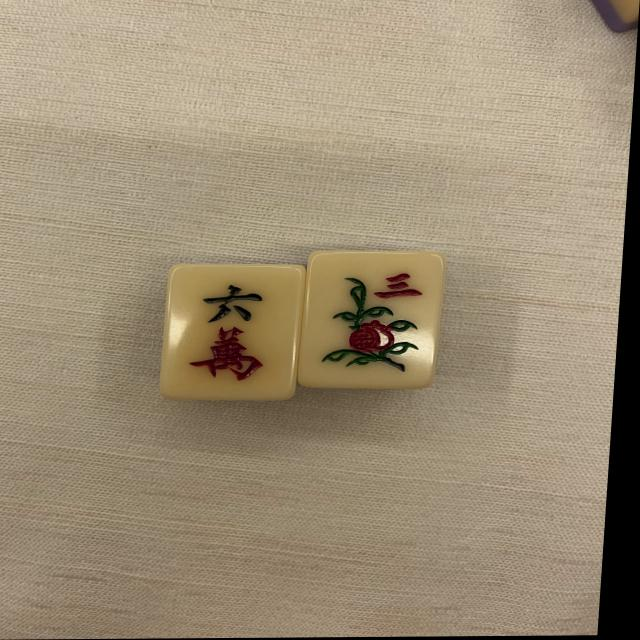3S: (299, 252, 439, 385)
6C: (170, 274, 291, 388)
